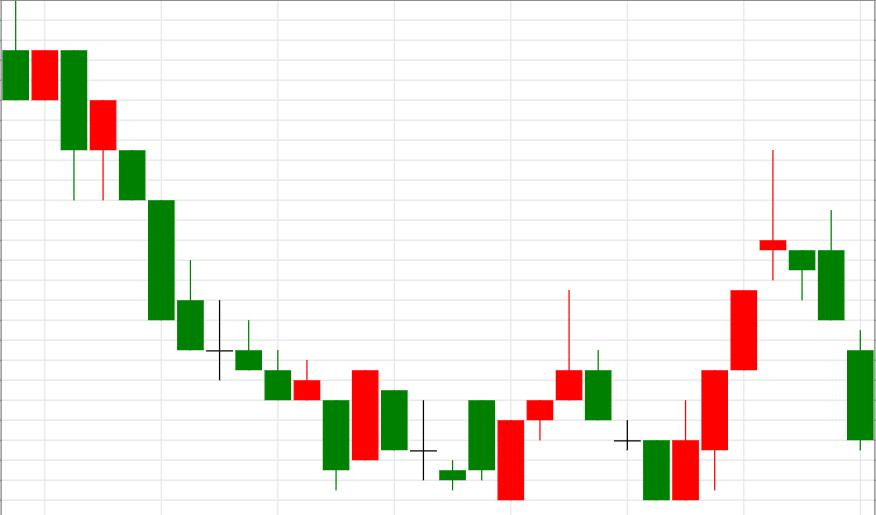three_white_soldiers_rise: (555, 291, 756, 500)
